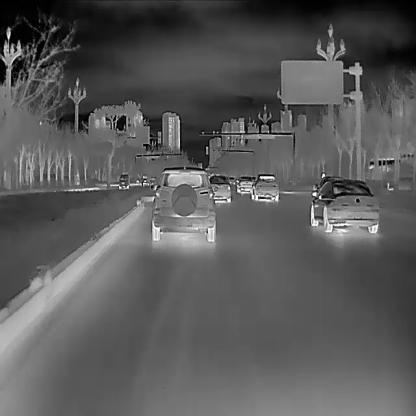car: (149, 166, 218, 241), (310, 178, 379, 232), (251, 172, 278, 201), (208, 173, 231, 202), (312, 174, 340, 196), (236, 175, 252, 193), (118, 173, 130, 188)
